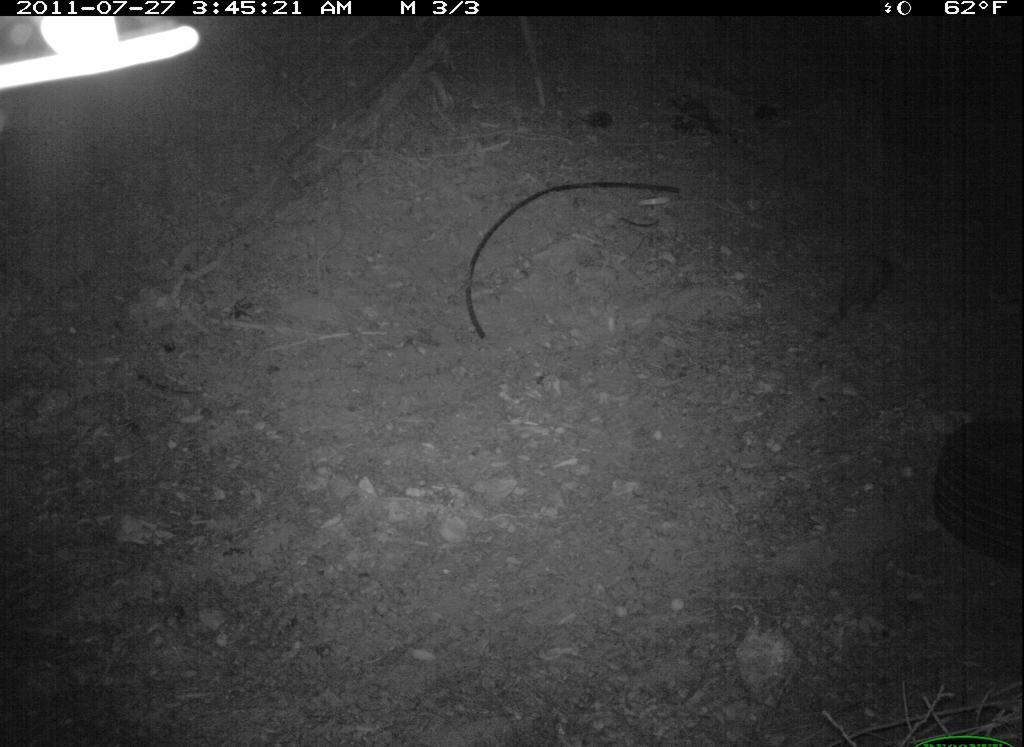opossum: (822, 237, 907, 335)
